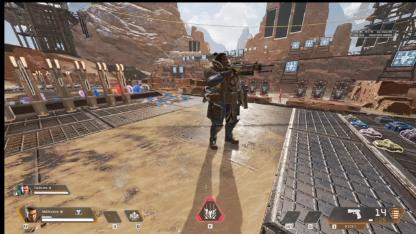Target: (204, 54, 245, 148)
